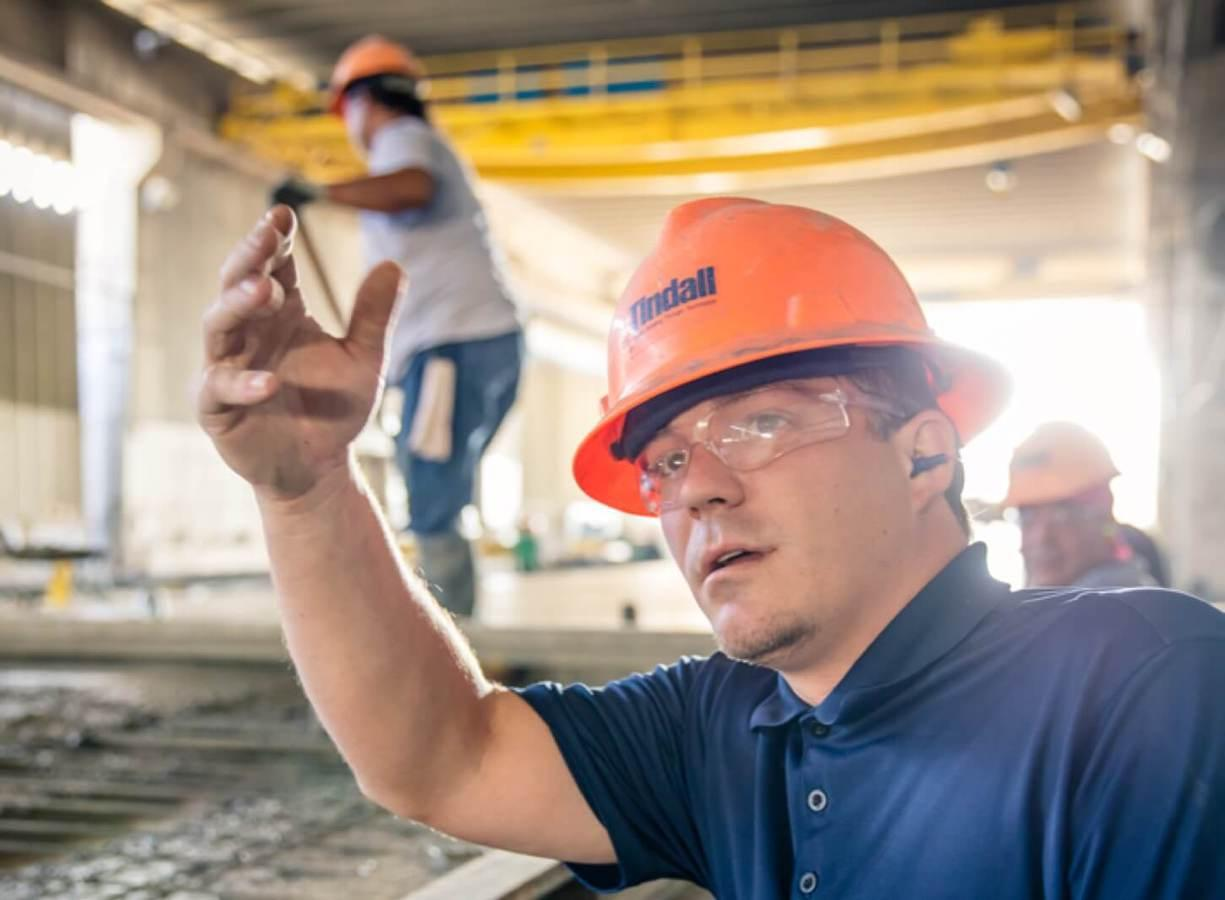helmet: (571, 200, 1004, 514), (1011, 424, 1122, 518), (327, 35, 425, 110)
